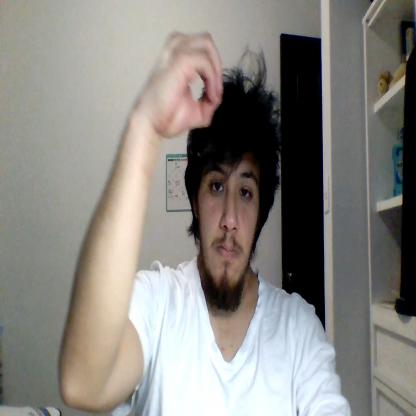O: (148, 29, 224, 136)
